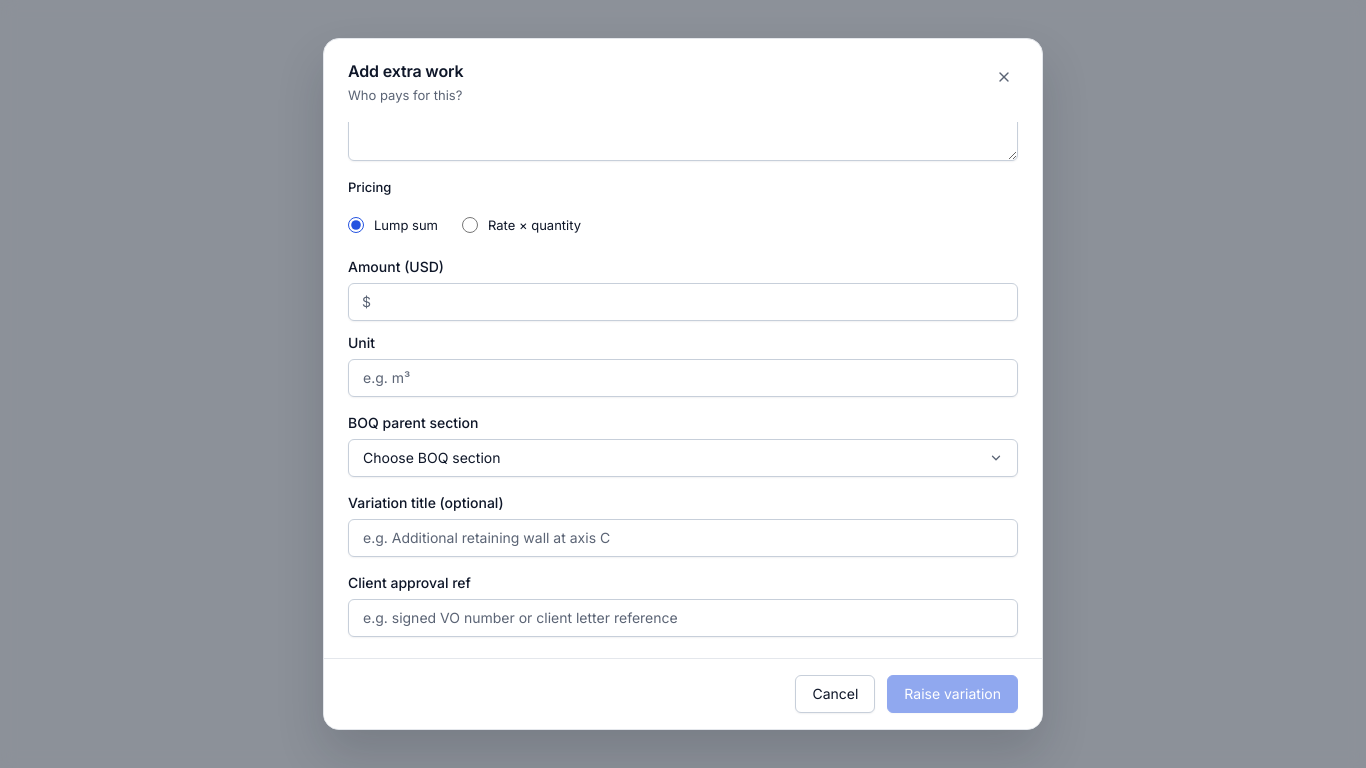
it: AddExtraWorkDialog › shows "Choose BOQ section" placeholder for VARIATION — no auto-select on mount
(page scrolled)
Open the dropdown: the placeholder row must be offered so the user can see the state.
Click the dropdown named "BOQ parent section" at (432, 458), box [348,439,1018,477]
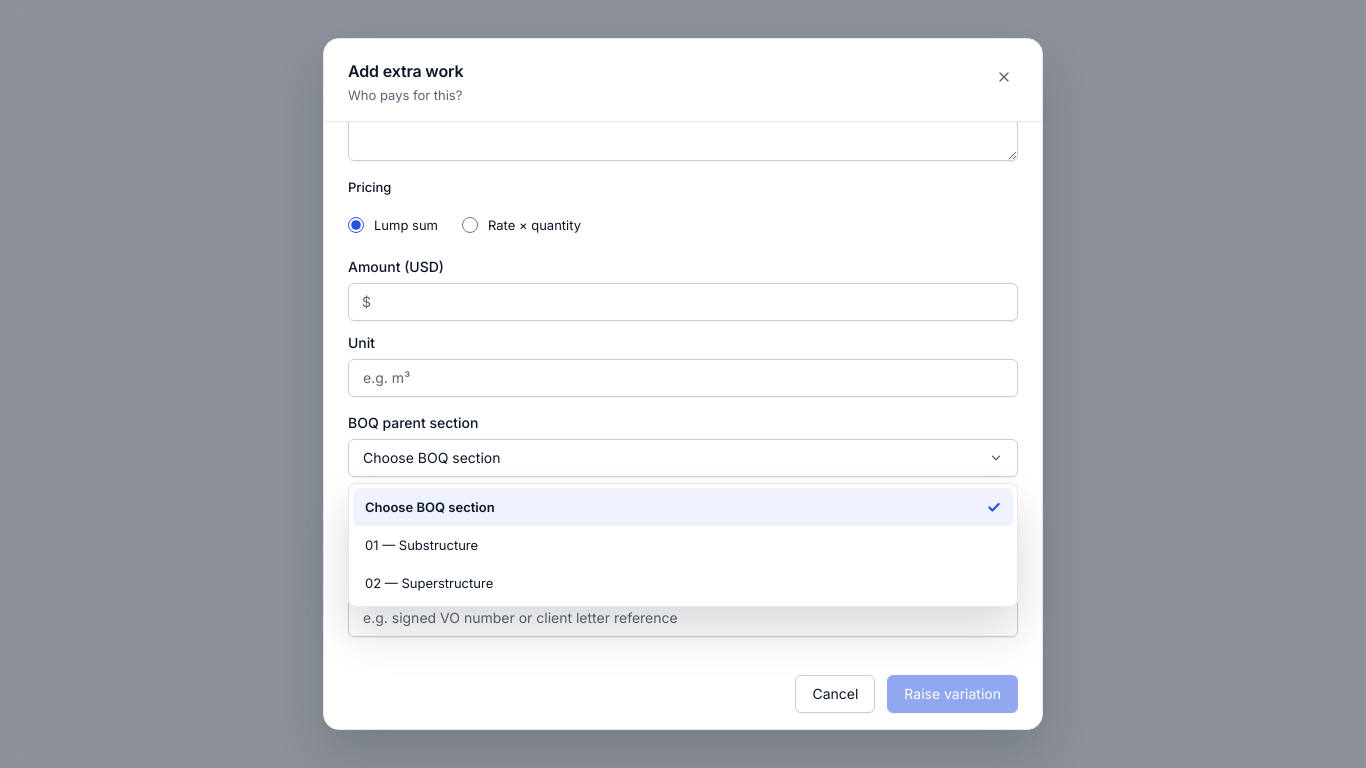
Expected: the option "Choose BOQ section" is shown, [353,488,1013,526]
